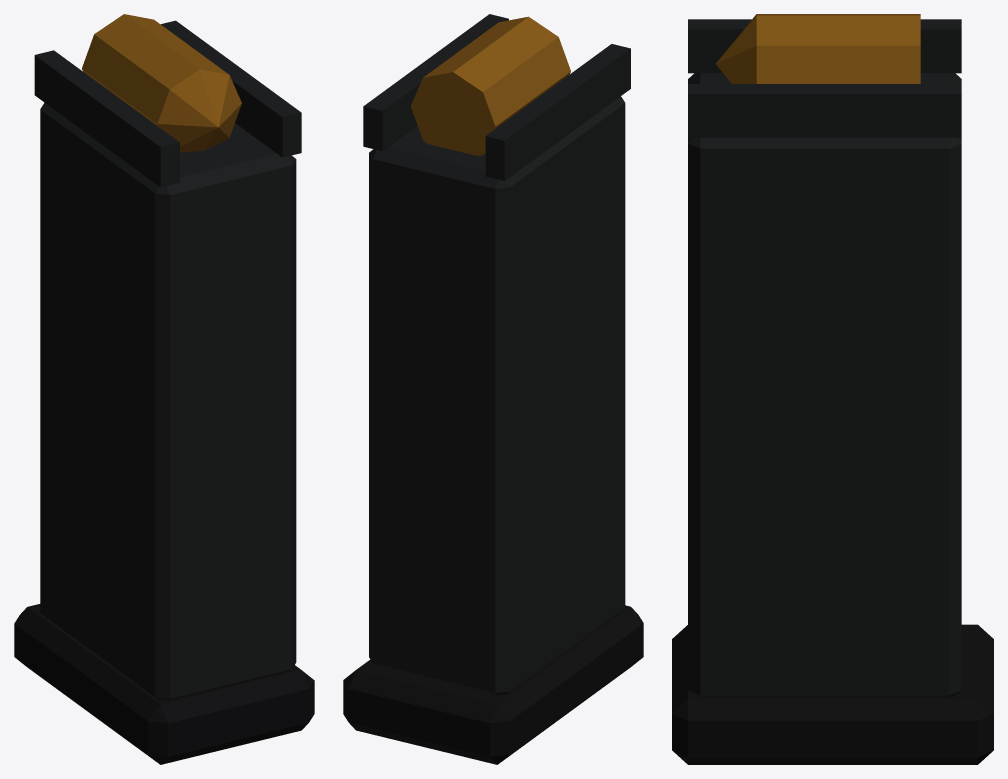
The model's file is Pistol Magazine.obj.
3 views of the same model, side by side, from view 1: azimuth 30°, elevation 25°; view 2: azimuth 150°, elevation 25°; view 3: azimuth 270°, elevation 25° (orthographic). The views are drawn at different scales.
Parts seen in each view (by area): view 1: Gunmetal, Polymer, Brass; view 2: Gunmetal, Polymer, Brass; view 3: Gunmetal, Polymer, Brass.
Boxes of the visible parts, x1=… form: Gunmetal: x1=34, y1=20, x2=301, y2=700; Polymer: x1=14, y1=604, x2=314, y2=764; Brass: x1=82, y1=14, x2=241, y2=152; Gunmetal: x1=363, y1=14, x2=630, y2=695; Polymer: x1=343, y1=605, x2=643, y2=764; Brass: x1=410, y1=16, x2=570, y2=155; Gunmetal: x1=688, y1=19, x2=961, y2=697; Polymer: x1=672, y1=624, x2=993, y2=764; Brass: x1=716, y1=14, x2=920, y2=83.
Bounding box in the file's own units: 0.026 × 0.0976 × 0.04.
